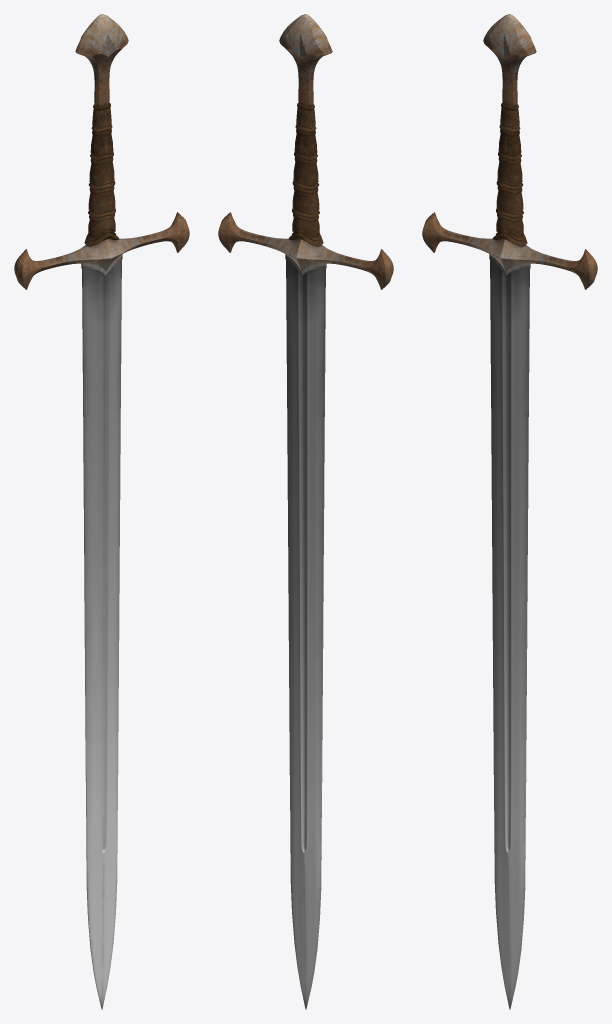
The picture shows the model from 3 angles, left to right: view 1: azimuth 30°, elevation 25°; view 2: azimuth 150°, elevation 25°; view 3: azimuth 330°, elevation 25°; orthographic projection.
Parts seen in each view (by area): view 1: Object_2; view 2: Object_2; view 3: Object_2.
Boxes of the visible parts, x1=… form: Object_2: x1=14, y1=14, x2=189, y2=1009; Object_2: x1=218, y1=14, x2=393, y2=1009; Object_2: x1=422, y1=14, x2=597, y2=1009.
Size of the model in its own units: 0.2573 by 1.43 by 0.0495.
1 material, 1 textured.
